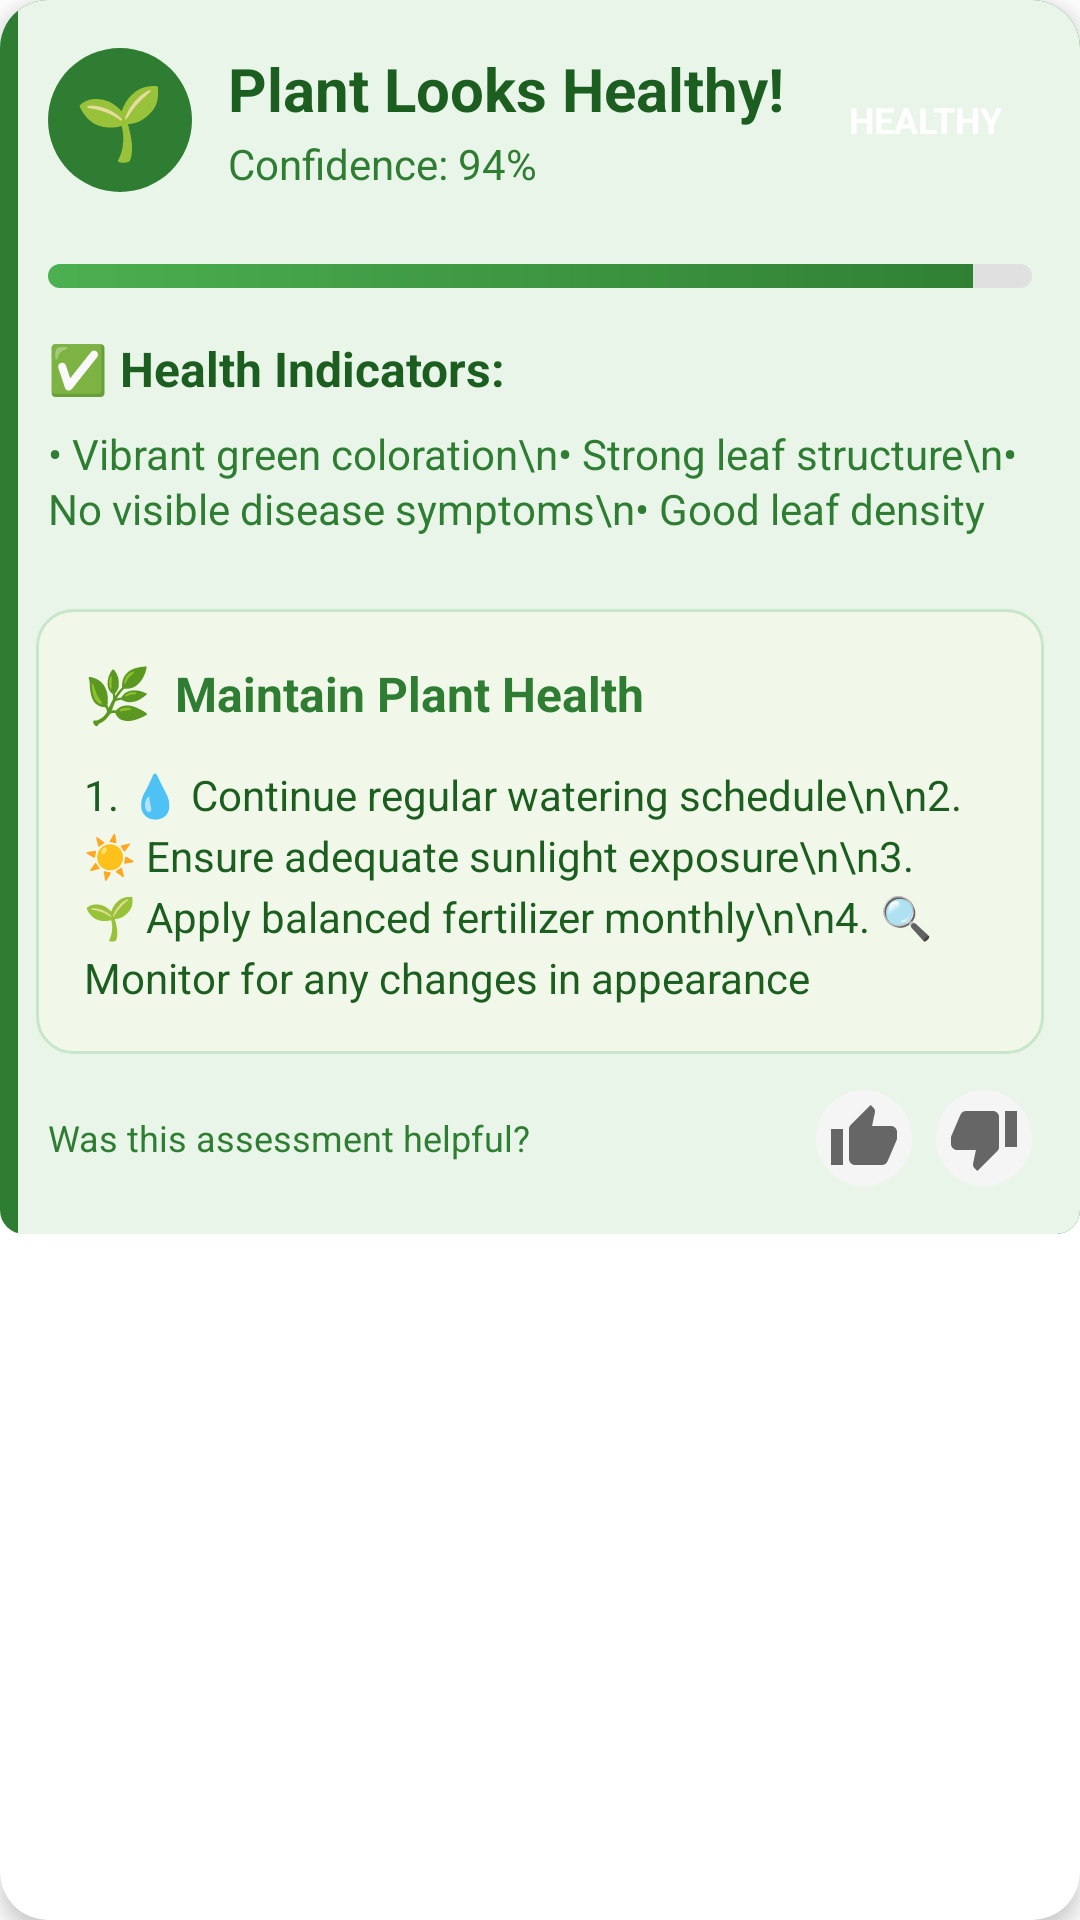

Named icons in this screenshot (1080×1920) and their bounding boxes, (x1, y1, x2, y2):
thumb down: (951, 1111, 1017, 1171)
thumb up: (831, 1105, 897, 1165)
